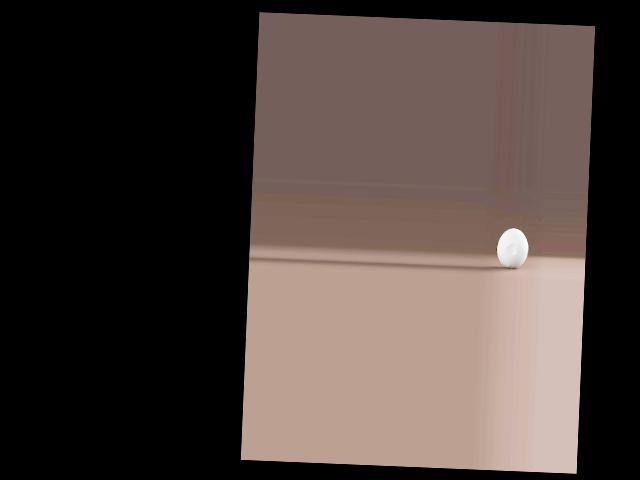egg: (496, 227, 528, 269)
